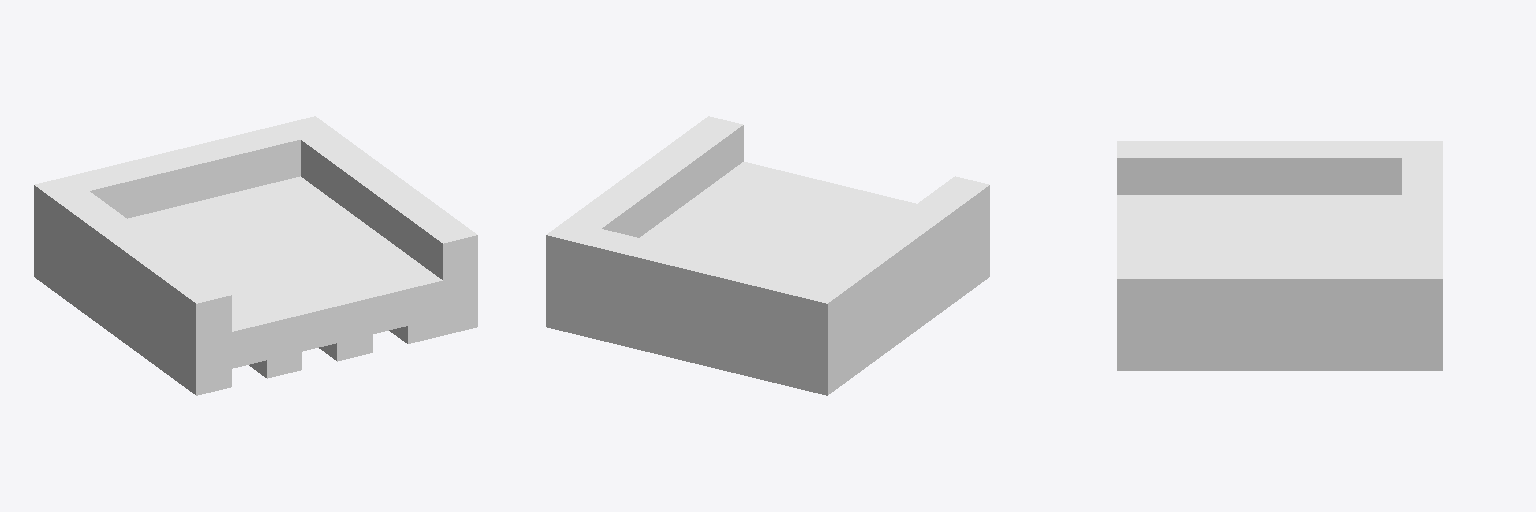
Rendered from CeilingBitsFront2.obj.
3 views of the same model, side by side, from view 1: azimuth 30°, elevation 25°; view 2: azimuth 150°, elevation 25°; view 3: azimuth 270°, elevation 25° (orthographic).
Parts seen in each view (by area): view 1: object 1; view 2: object 1; view 3: object 1.
Part boxes in pixels (left/top/right/bottom): object 1: left=34, top=116, right=477, bottom=395; object 1: left=546, top=116, right=989, bottom=395; object 1: left=1117, top=141, right=1442, bottom=370.
Bounding box in the file's own units: 1.6 × 0.5 × 1.6.